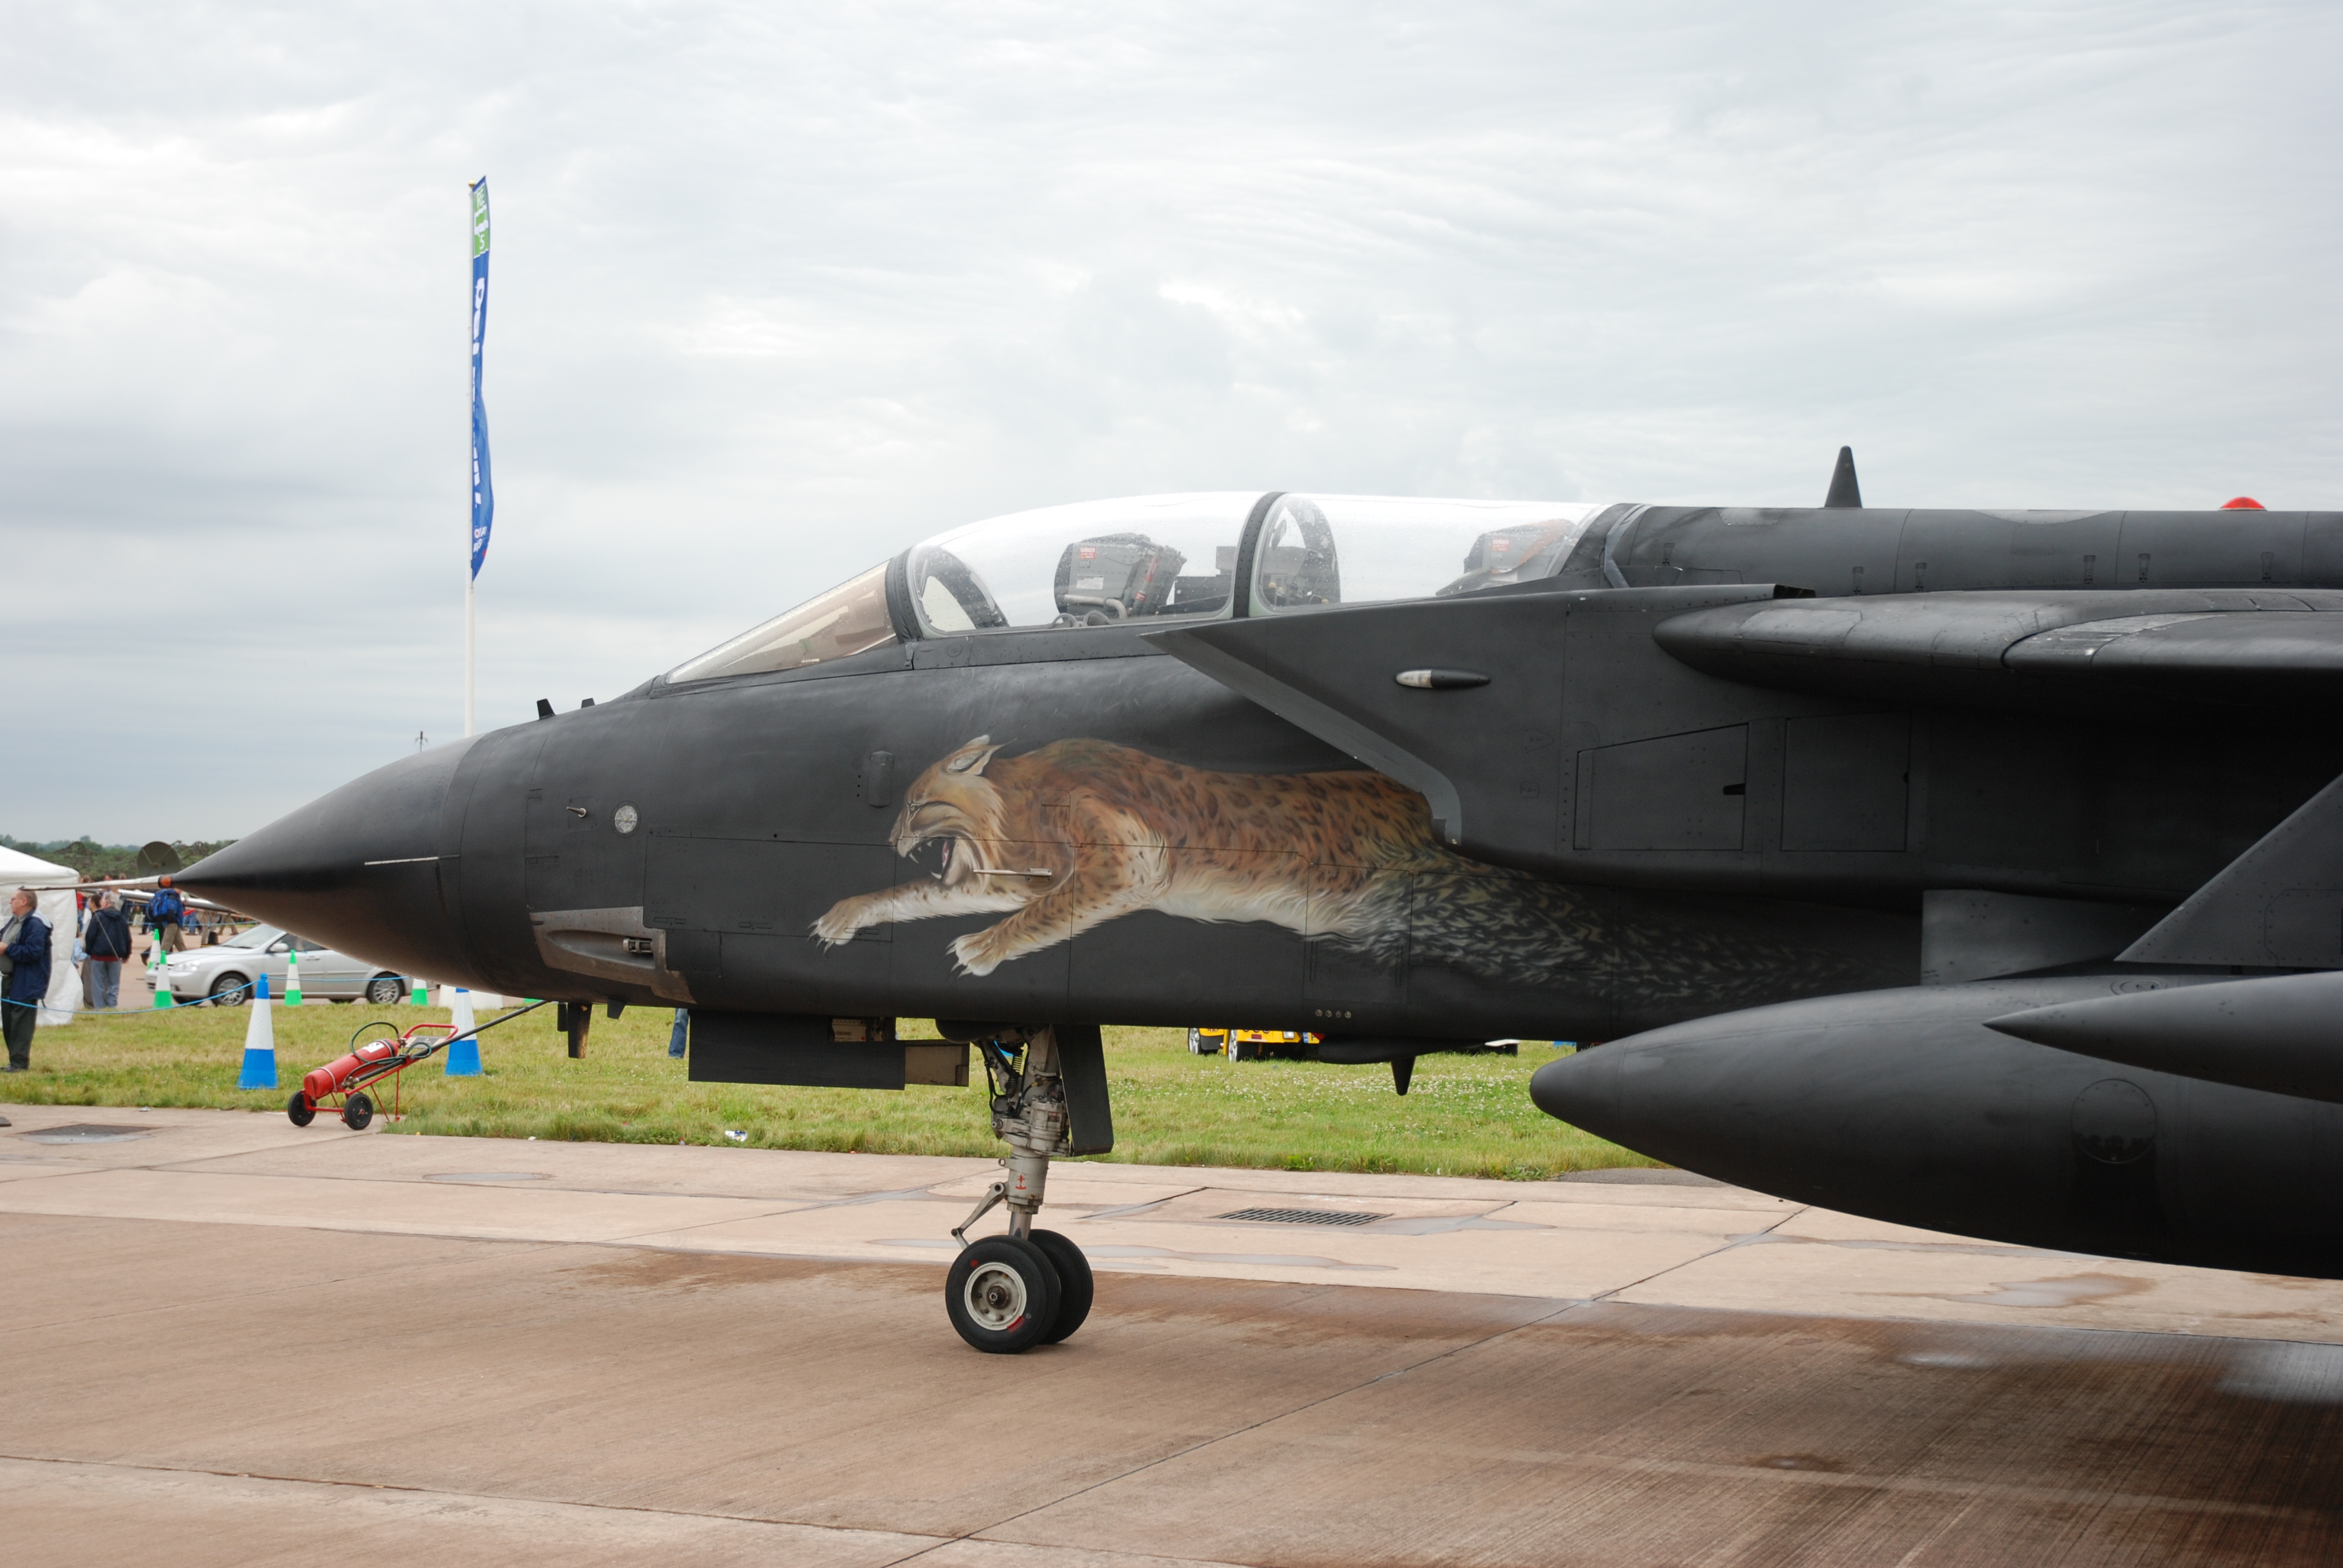Tornado: (19, 444, 2343, 1354)
